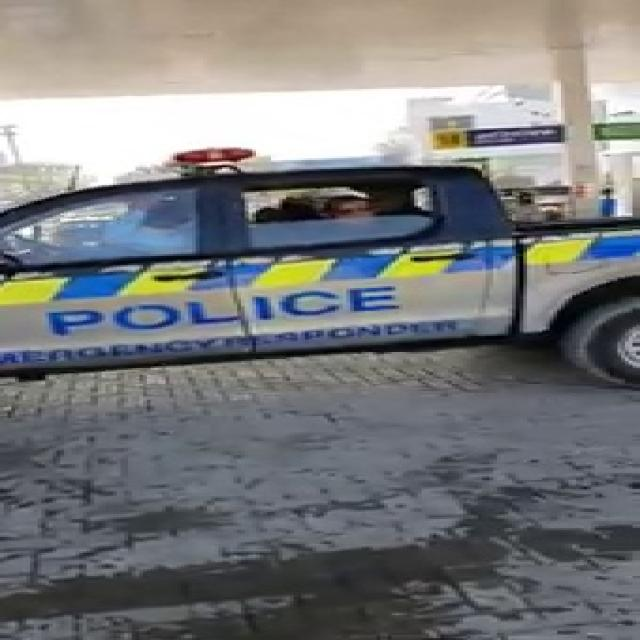police: (0, 173, 640, 390)
